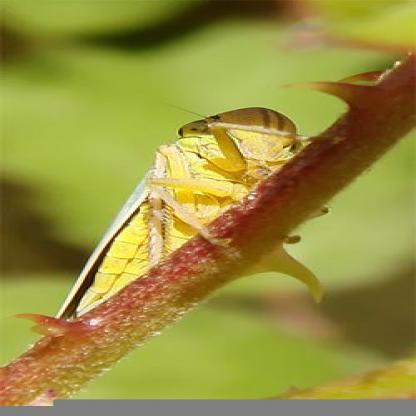Green-Leafhopper: (42, 106, 326, 328)
